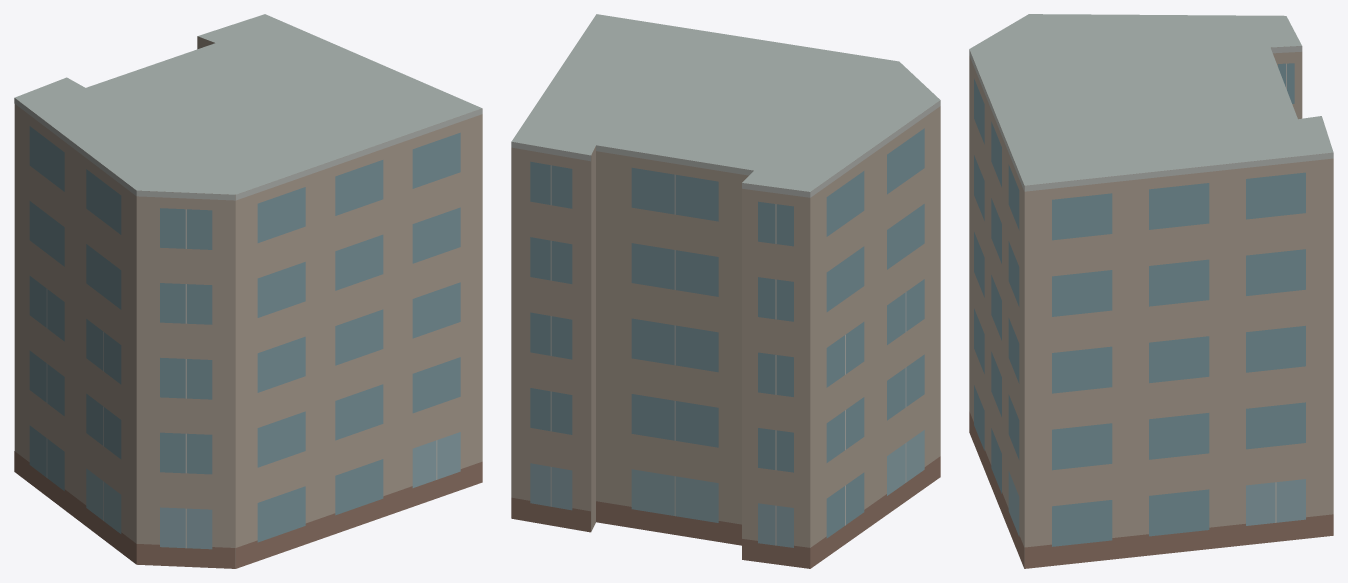
File: survey-upis-32851999.glb
The picture shows the model from 3 angles, left to right: view 1: azimuth 30°, elevation 25°; view 2: azimuth 150°, elevation 25°; view 3: azimuth 270°, elevation 25°; orthographic projection. The views are drawn at different scales.
Visible parts, largest first — view 1: survey-upis-32851999.tmp; view 2: survey-upis-32851999.tmp; view 3: survey-upis-32851999.tmp.
Part boxes in pixels (bbox=[...]): survey-upis-32851999.tmp: bbox=[14, 14, 482, 568]; survey-upis-32851999.tmp: bbox=[511, 14, 940, 568]; survey-upis-32851999.tmp: bbox=[969, 14, 1333, 568].
Bounding box in the file's own units: 15.1 × 15.7 × 13.54.
